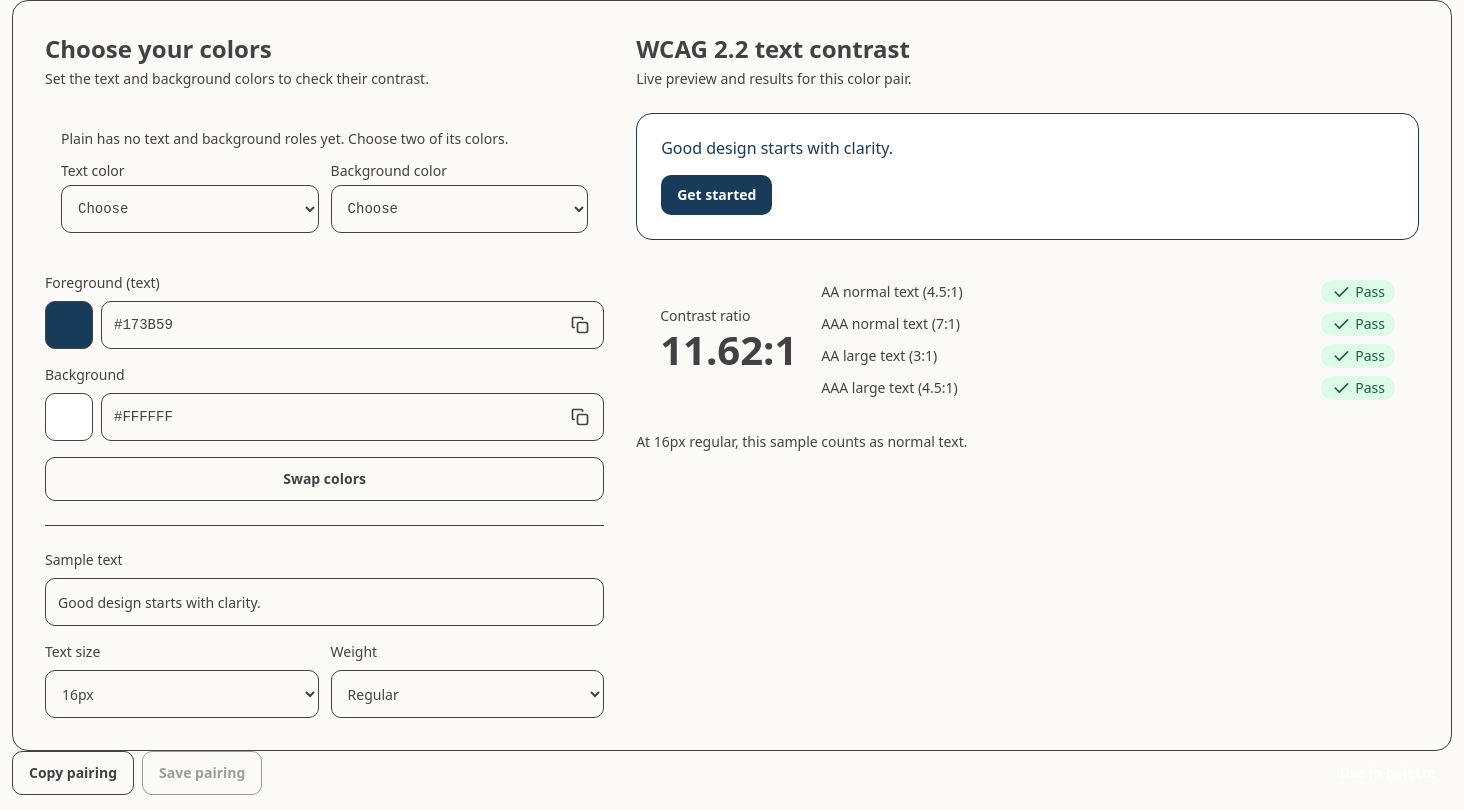
Scenario: ContrastCheckerView › asks for two colors when the palette has no roles
Expected: the text "Plain has no text and background roles" is shown, [61,129,508,148]
Select "#111111" in the dropdown labelled "Text color" at (190, 209), box [61,185,319,233]
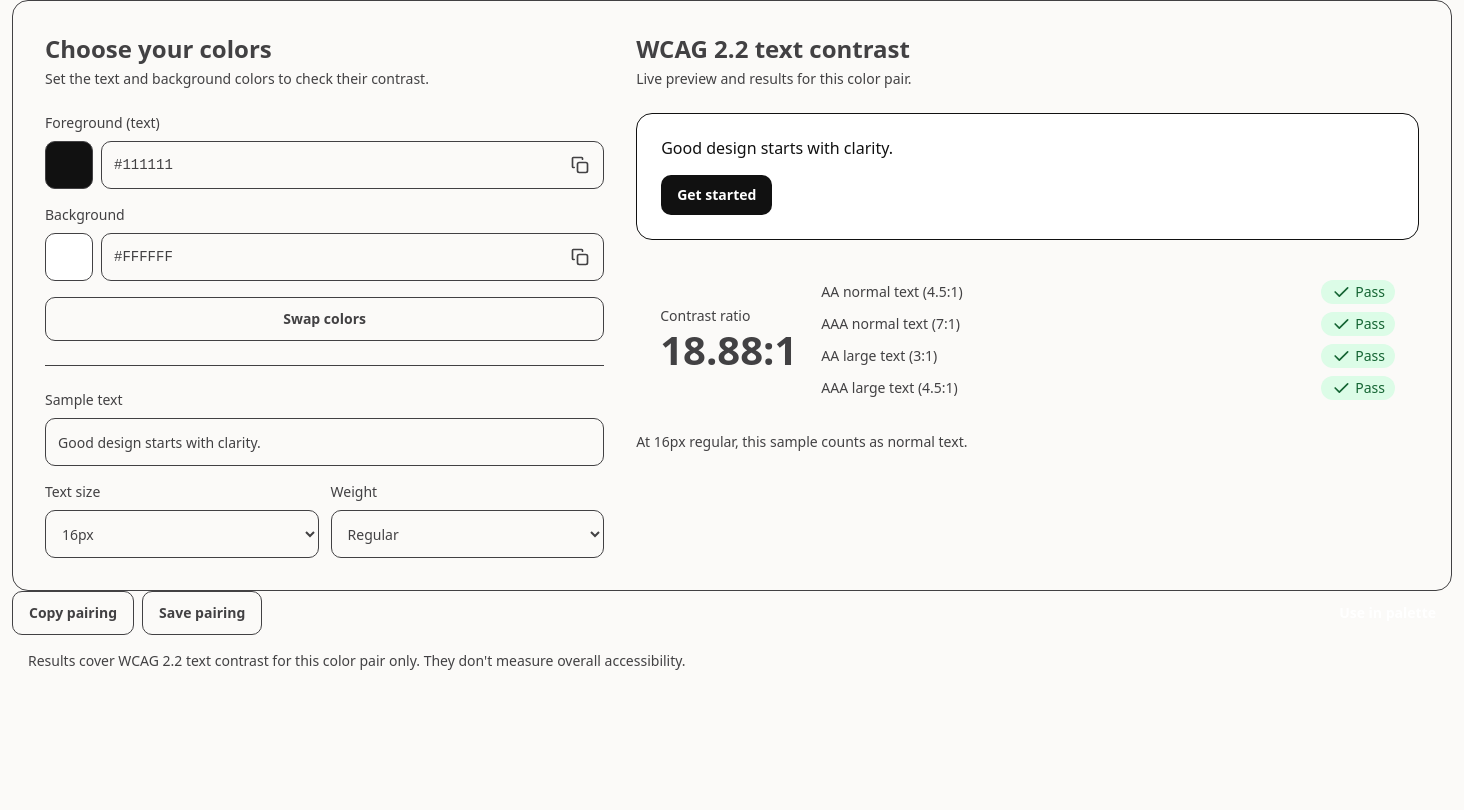
Now the field labelled "Foreground (text)" holds "#111111", box [101,141,604,189]
